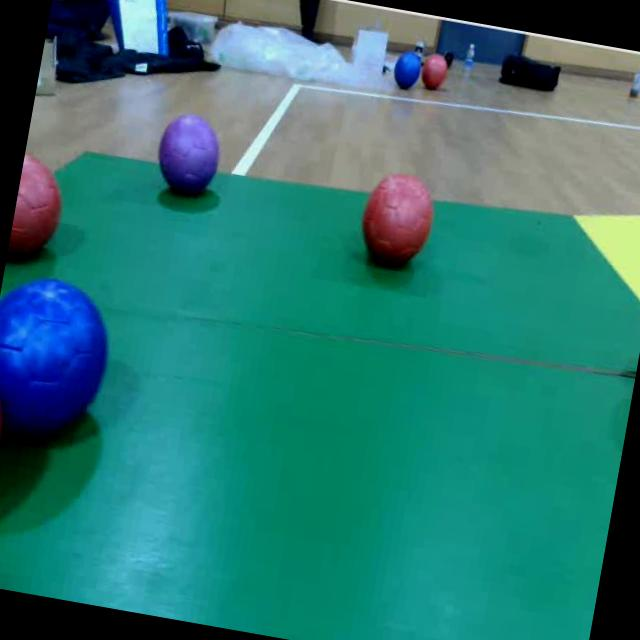blue_ball: (0, 274, 119, 441), (387, 48, 425, 92)
purple_ball: (152, 106, 228, 201)
red_ball: (351, 166, 442, 274), (7, 146, 72, 262), (418, 51, 451, 94)
